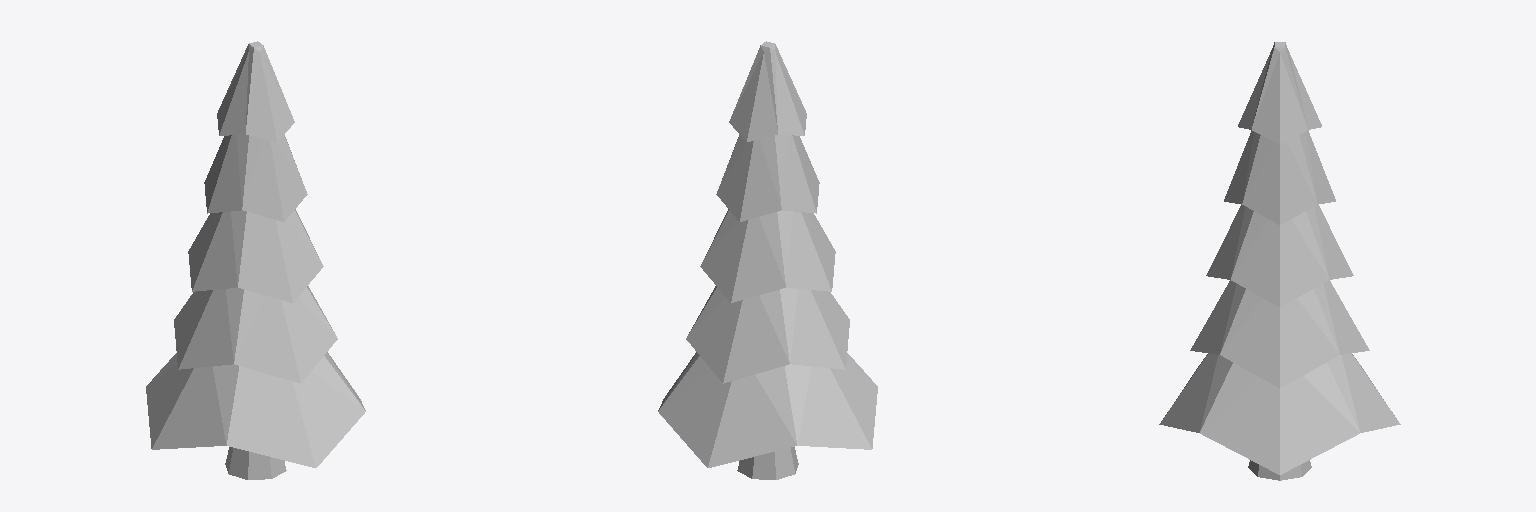
File: pine.obj
3 renders of one model, left to right at view 1: azimuth 30°, elevation 25°; view 2: azimuth 150°, elevation 25°; view 3: azimuth 270°, elevation 25°, orthographic.
Visible parts, largest first — view 1: tree; view 2: tree; view 3: tree.
Part boxes in pixels (x1,y1,x2,y2): tree: (146,41,365,479); tree: (658,41,877,479); tree: (1159,42,1400,480).
Bounding box in the file's own units: 4.1 × 7.94 × 4.1.